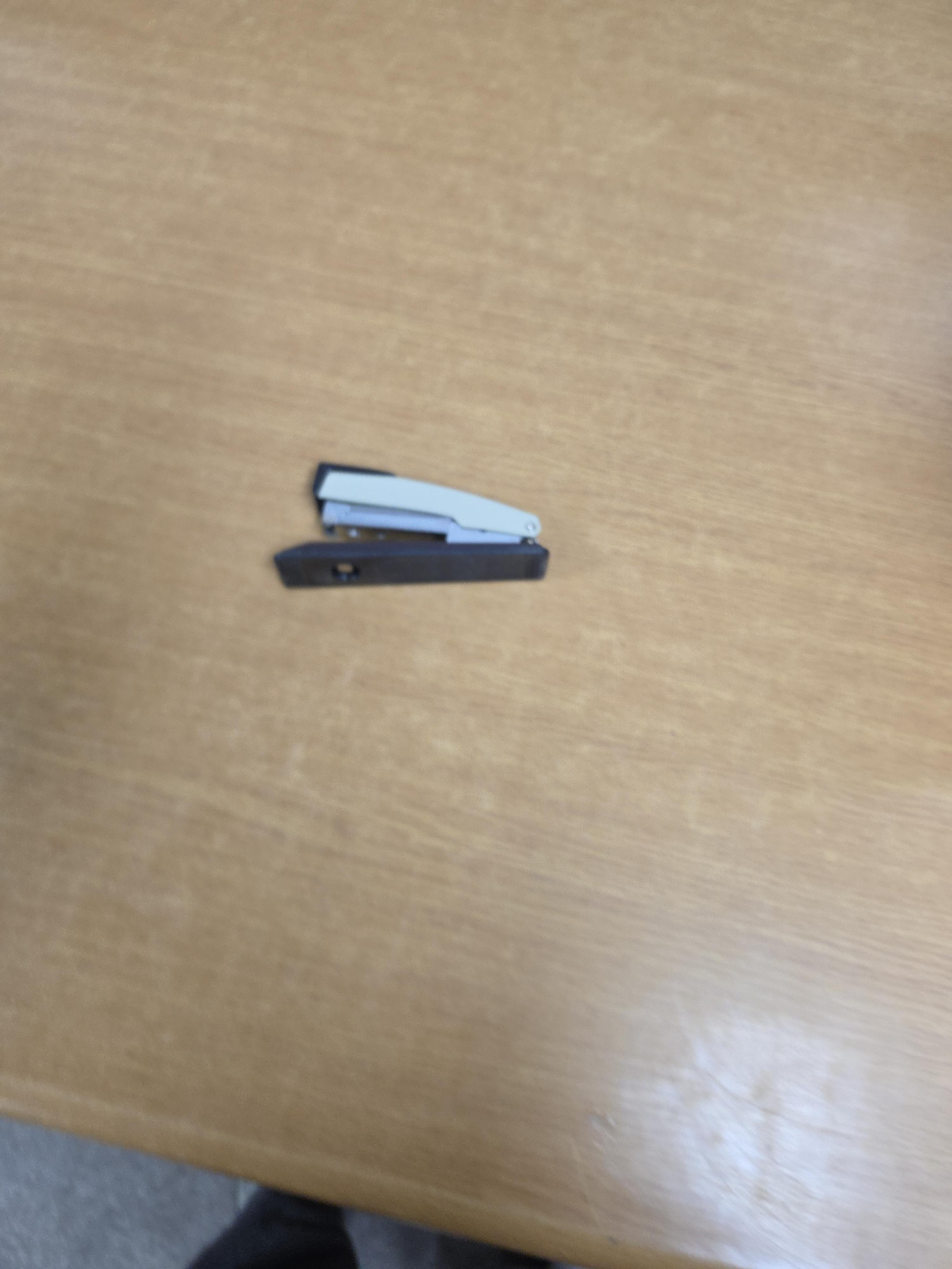stapler: (271, 460, 553, 590)
